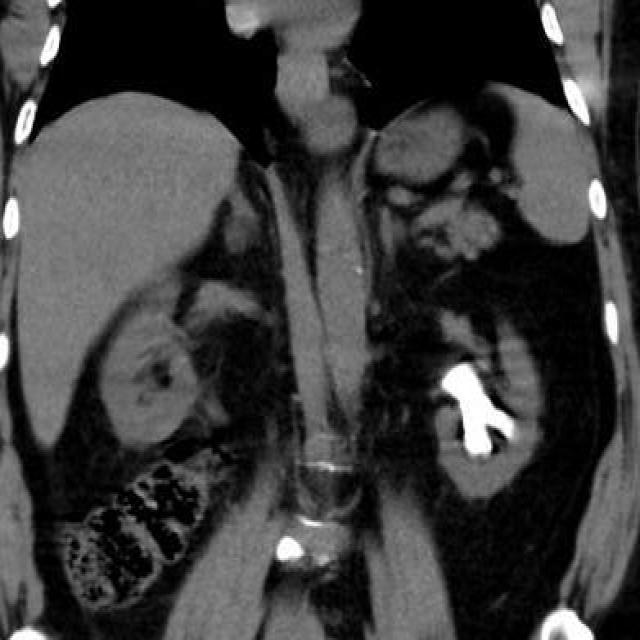Tas_Var: (437, 359, 516, 457), (503, 419, 517, 439)
